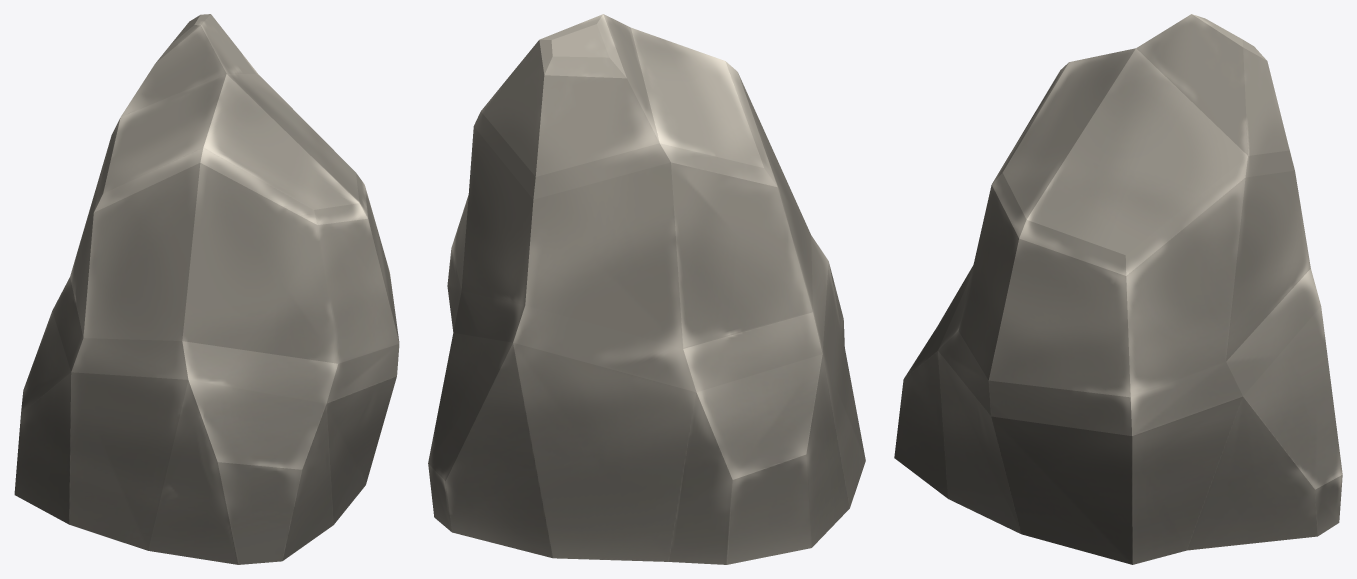
The model's file is crystal_13.glb.
The picture shows the model from 3 angles, left to right: view 1: azimuth 30°, elevation 25°; view 2: azimuth 150°, elevation 25°; view 3: azimuth 270°, elevation 25°; orthographic projection. The views are drawn at different scales.
Parts seen in each view (by area): view 1: crystal_13; view 2: crystal_13; view 3: crystal_13.
Boxes of the visible parts, box(x1,y1,x2,y2) form: crystal_13: box(14, 14, 399, 564); crystal_13: box(428, 14, 865, 564); crystal_13: box(894, 14, 1342, 564).
Size of the model in its own units: 0.9698 by 1.13 by 0.97.
1 material, 1 textured.
